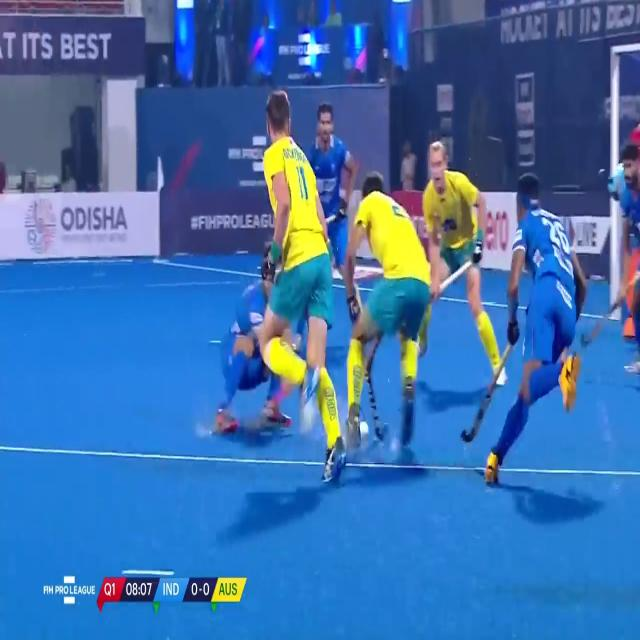ball: (356, 416, 371, 448)
